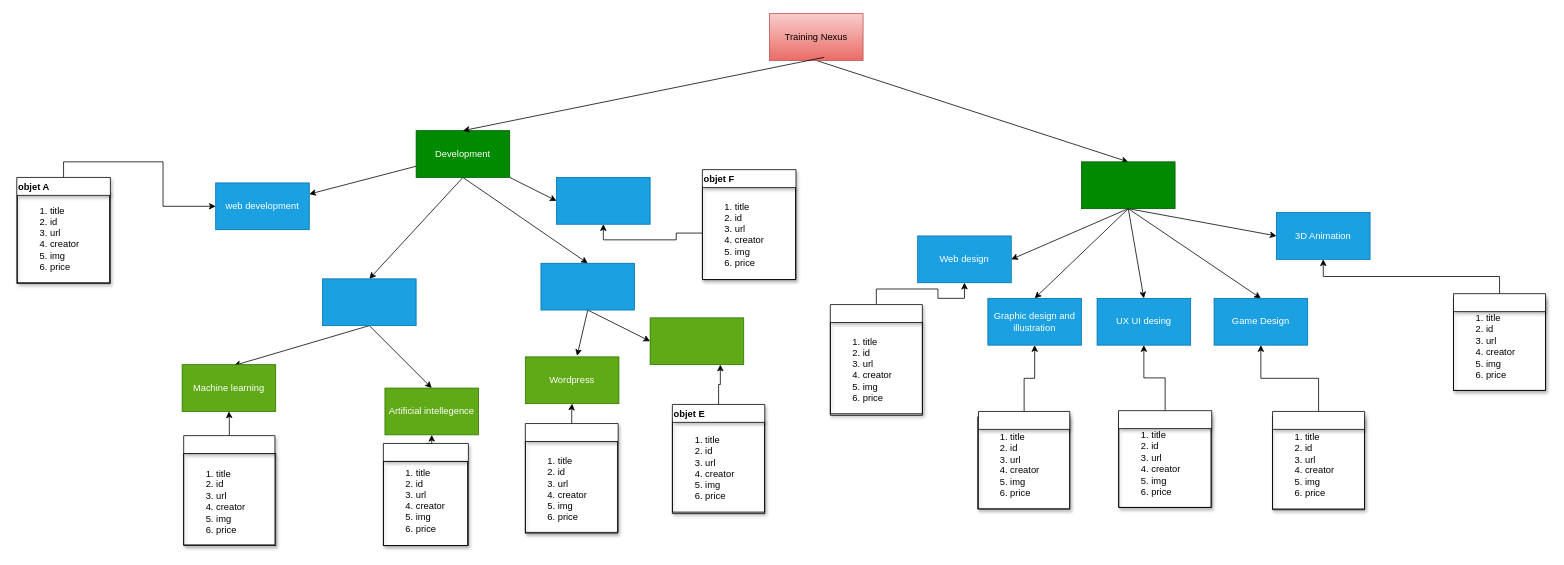
Some shapes in this 1564 by 565 pixel diagram are drawn without their labels. The centre of each missing label's shape, as x and y in pixels:
Data Science: [369,302]
Design: [1128,185]
No code Development: [587,286]
objet B: [230,491]
objet C: [426,495]
objet D: [572,479]
objet G: [876,361]
objet H: [1024,461]
objet I: [1165,460]
Objet K: [1319,461]
Objet L: [1500,343]
Software development: [603,200]
Wix: [696,341]
